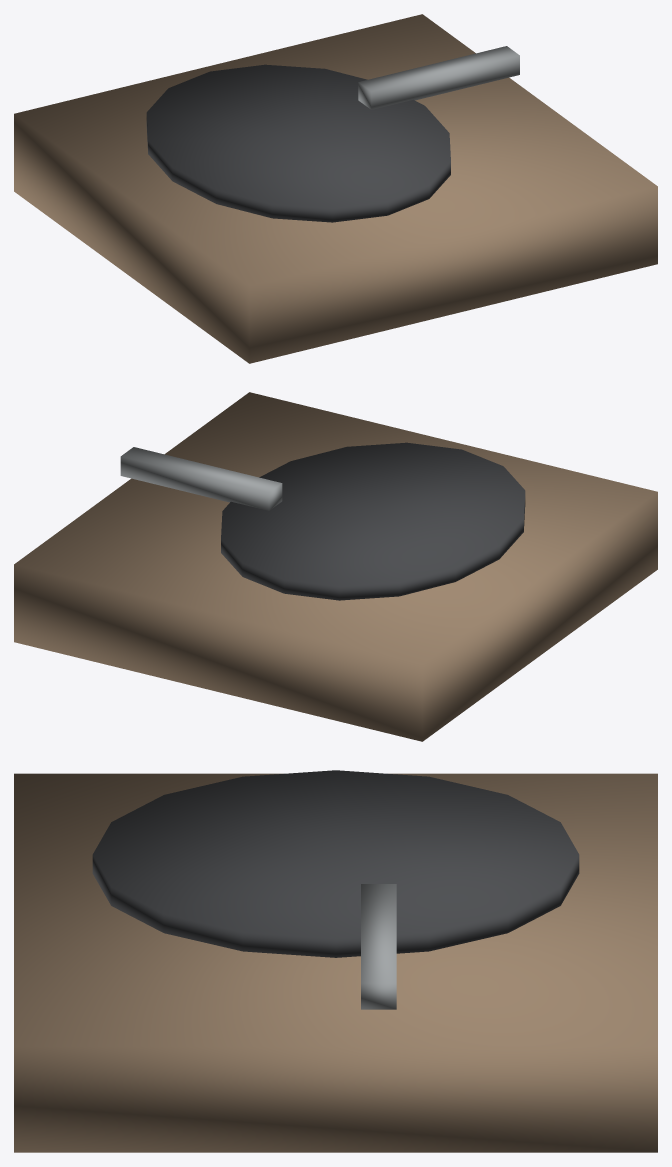
File: record_player__deep.glb
3 renders of one model, top to bottom at view 1: azimuth 30°, elevation 25°; view 2: azimuth 150°, elevation 25°; view 3: azimuth 270°, elevation 25°, orthographic. The views are drawn at different scales.
Visible parts, largest first — view 1: world; view 2: world; view 3: world.
Part boxes in pixels (left/top/right/bottom): world: left=14, top=14, right=657, bottom=363; world: left=14, top=392, right=657, bottom=741; world: left=14, top=770, right=657, bottom=1152.
Size of the model in its own units: 0.55 by 0.1525 by 0.549.
